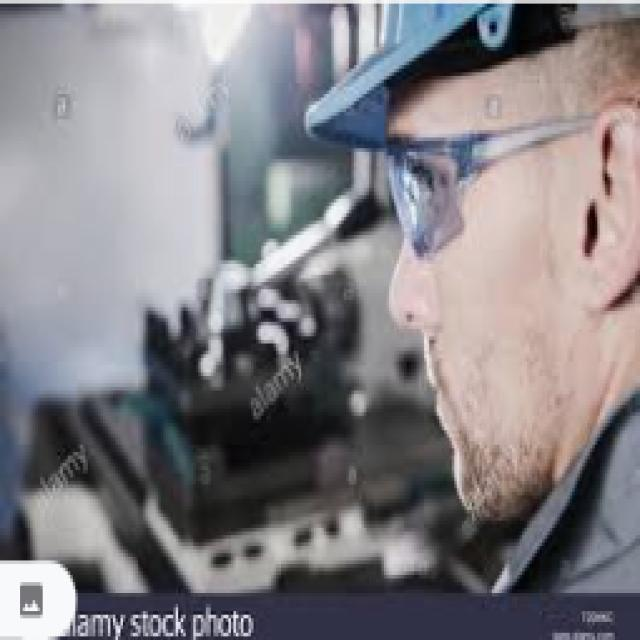glasses: (381, 124, 610, 242)
